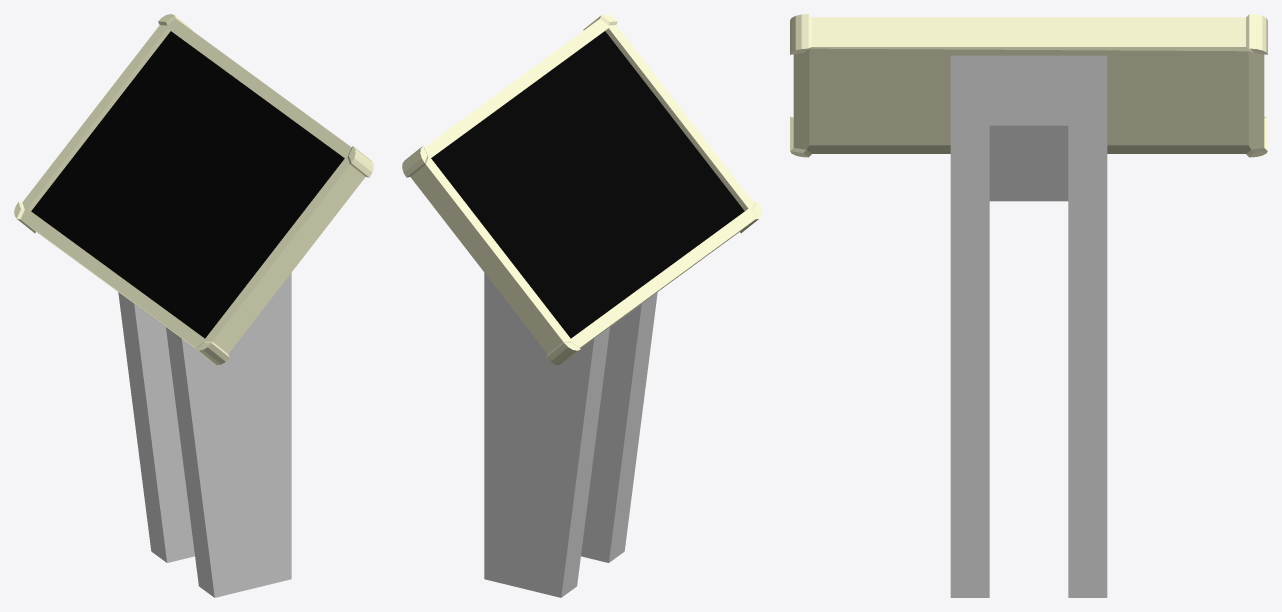
Rendered from Terminal.fbx.
3 renders of one model, left to right at view 1: azimuth 30°, elevation 25°; view 2: azimuth 150°, elevation 25°; view 3: azimuth 270°, elevation 25°, orthographic. The views are drawn at different scales.
Visible parts, largest first — view 1: Screen, Pedestal, Tablet; view 2: Screen, Pedestal, Tablet; view 3: Pedestal, Tablet.
Part boxes in pixels (<box>): Screen: <box>31,31,344,338</box>; Pedestal: <box>118,273,291,597</box>; Tablet: <box>14,14,373,365</box>; Screen: <box>431,31,744,338</box>; Pedestal: <box>484,273,657,597</box>; Tablet: <box>402,14,761,365</box>; Pedestal: <box>950,55,1107,597</box>; Tablet: <box>790,14,1267,157</box>.
Bounding box in the file's own units: 160 × 413 × 305.
